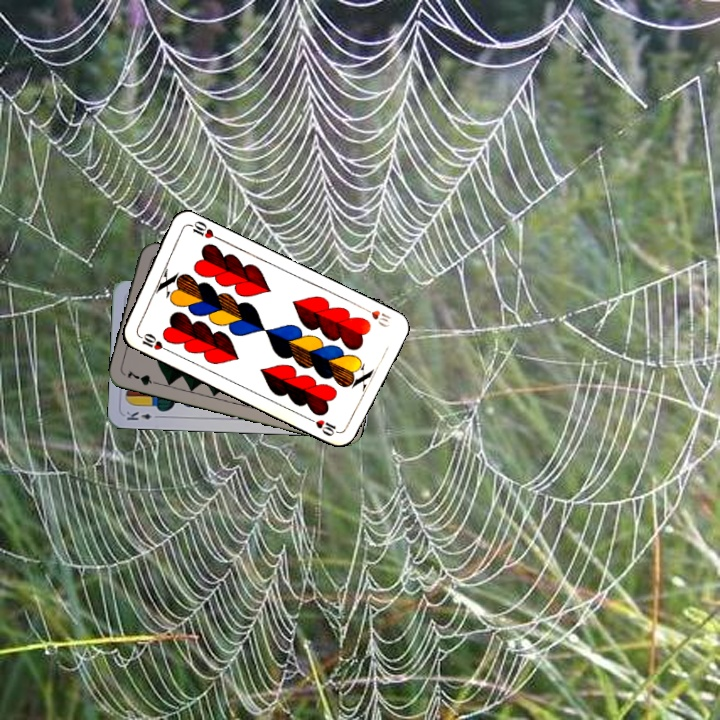EK: (122, 406, 163, 423)
G7: (123, 366, 163, 388)
H10: (357, 302, 393, 330), (134, 329, 171, 354)
